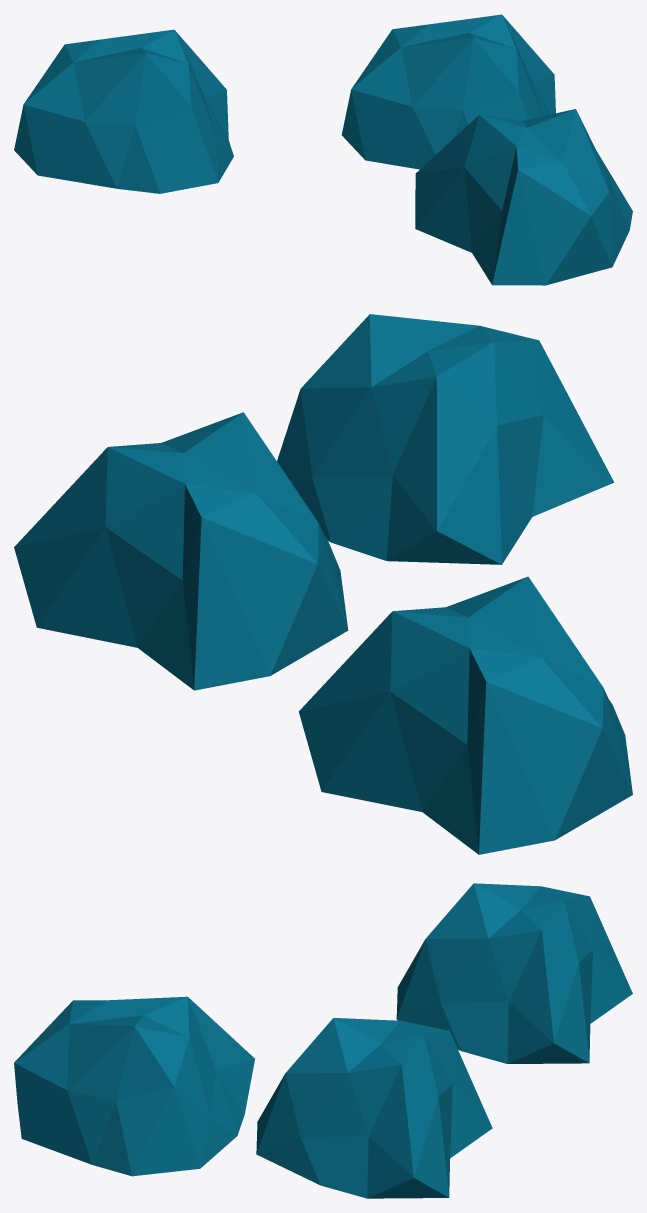
File: mountains.fbx
3 views of the same model, one above another, from view 1: azimuth 30°, elevation 25°; view 2: azimuth 150°, elevation 25°; view 3: azimuth 270°, elevation 25° (orthographic). The views are drawn at different scales.
Parts seen in each view (by area): view 1: rock_02__1_, rock_02__3_, rock_02__2_; view 2: rock_02__3_, rock_02__2_, rock_02__1_; view 3: rock_02__1_, rock_02__2_, rock_02__3_.
Boxes of the visible parts, left/top/right/bottom form: rock_02__1_: left=415, top=109, right=632, bottom=285; rock_02__3_: left=14, top=29, right=233, bottom=193; rock_02__2_: left=341, top=14, right=555, bottom=169; rock_02__3_: left=298, top=576, right=632, bottom=854; rock_02__2_: left=14, top=412, right=348, bottom=690; rock_02__1_: left=277, top=314, right=614, bottom=564; rock_02__1_: left=14, top=996, right=254, bottom=1176; rock_02__2_: left=256, top=1018, right=492, bottom=1198; rock_02__3_: left=396, top=883, right=632, bottom=1063.
Bounding box in the file's own units: 3348 × 874 × 3617.
